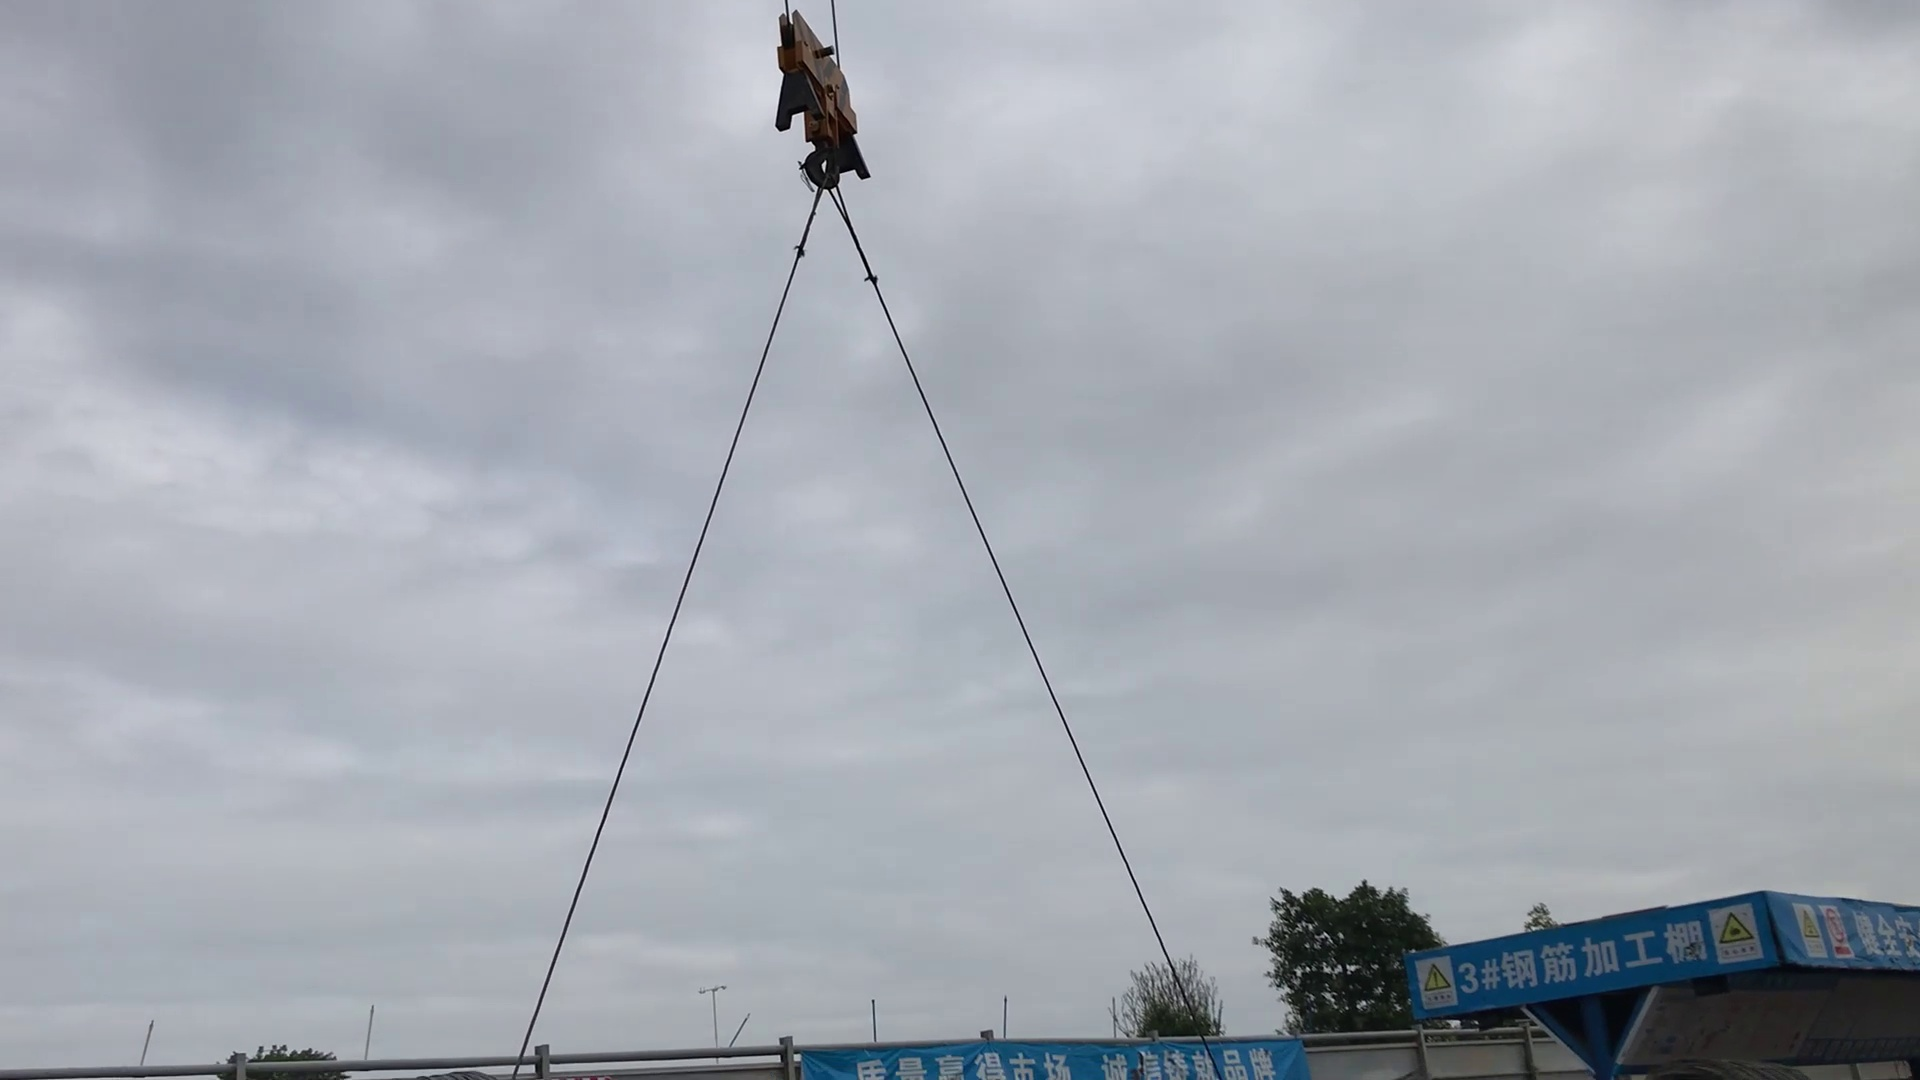hook: (762, 5, 881, 200)
slogan: (799, 1036, 1303, 1080)
